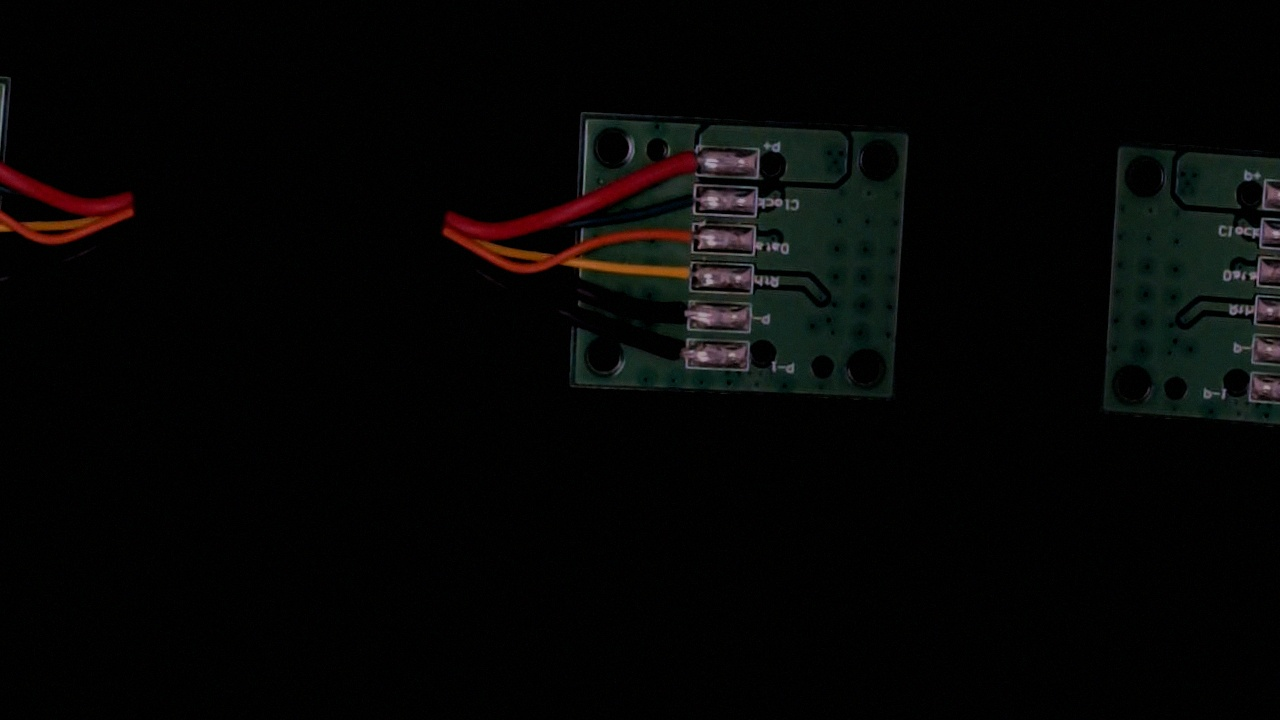Black: (638, 294, 704, 333)
Black1: (644, 336, 701, 371)
Green: (654, 183, 713, 220)
Orange: (649, 218, 711, 255)
Red: (649, 141, 710, 179)
Yellow: (642, 256, 706, 292)
